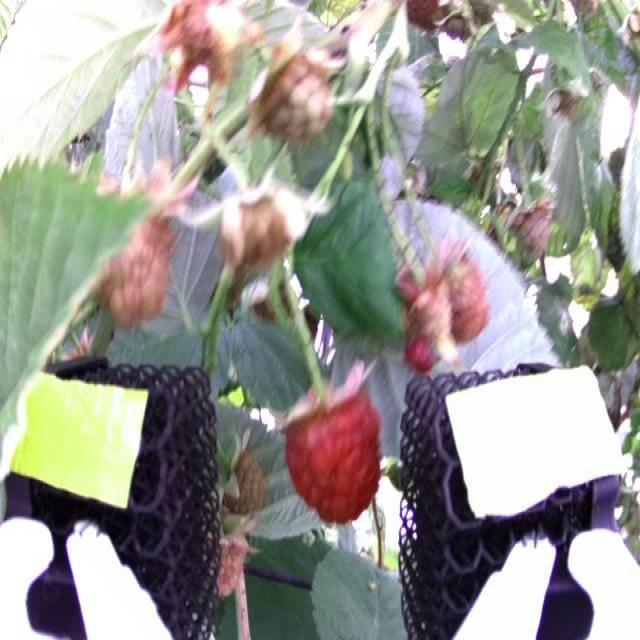Riped berries: (280, 382, 385, 522)
